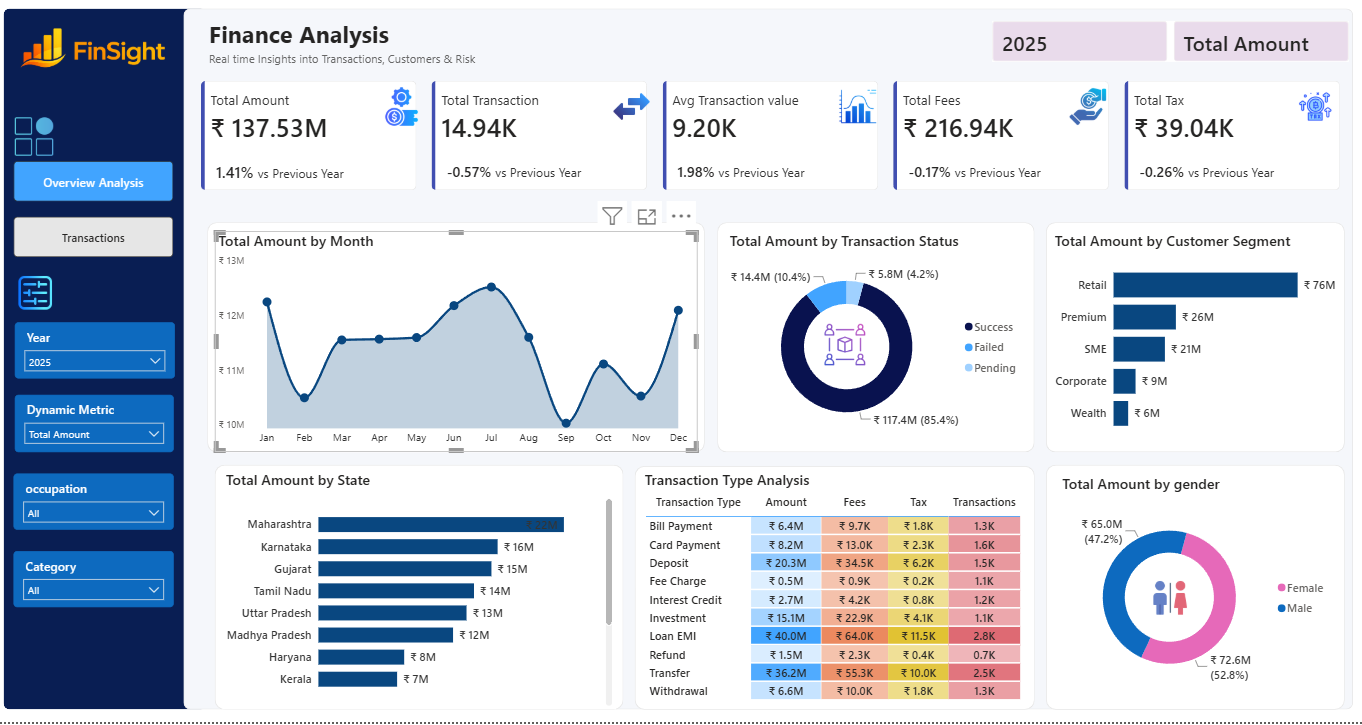

The dashboard page shown, as its layout file describes it:
{"tool":"powerbi","page":{"name":"Overview Analysis","canvas":[1800,950],"ordinal":0},"visuals":[{"type":"shape","box":[16.9,16.9,266.1,916.9],"z":0},{"type":"shape","box":[252.5,16.9,1530,916.9],"z":1000},{"type":"image","box":[30.5,16.9,208.5,103.4],"z":2000},{"type":"cardVisual","fields":{"Data":["finance_transactions.Dashboard Title"]},"box":[268.2,16.4,385.9,88.3],"z":3000},{"type":"cardVisual","fields":{"Data":["finance_transactions.Total Amount","finance_transactions.Total Transaction","finance_transactions.Avg Transaction value","finance_transactions.Total Fees","finance_transactions.Total Tax"]},"box":[268.2,104.7,1502.7,155.3],"z":4000},{"type":"slicer","fields":{"Values":["Calendar Table.Year"]},"box":[31.1,426.8,209.3,73.6],"z":5000},{"type":"image","box":[511.8,119.4,50.7,50.7],"z":6000},{"type":"image","box":[812.7,119.4,50.7,50.7],"z":7000},{"type":"image","box":[1409.5,119.4,50.7,50.7],"z":8000},{"type":"image","box":[1108.7,119.4,50.7,50.7],"z":9000},{"type":"image","box":[1707.1,119.4,50.7,50.7],"z":10000},{"type":"slicer","fields":{"Values":["Dynamic Metric.Dynamic Metric"]},"box":[31.1,521.6,207.7,75.2],"z":11000},{"type":"shape","box":[282.9,296,650.8,300.9],"z":12000},{"type":"areaChart","fields":{"Y":["finance_transactions.Total Amount"],"Category":["Calendar Table.Month"]},"box":[292.7,307.4,631.2,289.4],"z":13000},{"type":"cardVisual","fields":{"Data":["finance_transactions.Selected Year","finance_transactions.Selected Dynamic Measure"]},"box":[1304.9,27.8,477.5,63.8],"z":14000},{"type":"shape","box":[950,296,415,300.9],"z":15000},{"type":"donutChart","fields":{"Y":["finance_transactions.Total Amount"],"Category":["finance_transactions.transaction_status"]},"box":[961.5,307.4,394.1,278],"z":16000},{"type":"shape","box":[1380.1,296,390.8,300.9],"z":17000},{"type":"barChart","fields":{"Y":["finance_transactions.Total Amount"],"Category":["customers.customer_segment"]},"box":[1386.6,307.4,377.7,278],"z":18000},{"type":"shape","box":[292.7,613.2,534.7,320.5],"z":19000},{"type":"barChart","fields":{"Y":["finance_transactions.Total Amount"],"Category":["customers.state"]},"box":[302.5,619.7,515.1,314],"z":20000},{"type":"shape","box":[842.1,614.8,523.3,318.9],"z":21000},{"type":"tableEx","title":"Transaction Type Analysis","fields":{"Values":["finance_transactions.transaction_type","finance_transactions.Total Amount","finance_transactions.Total Fees","finance_transactions.Total Tax","finance_transactions.Total Transaction"]},"box":[850.3,619.7,505.3,314],"z":22000},{"type":"shape","box":[1380.1,613.2,390.8,320.5],"z":23000},{"type":"donutChart","fields":{"Y":["finance_transactions.Total Amount"],"Category":["customers.gender"]},"box":[1396.4,624.6,361.4,299.2],"z":24000},{"type":"image","box":[1087.4,426.8,58.9,58],"z":25000},{"type":"image","box":[1517.4,762,50.7,50.7],"z":26000},{"type":"slicer","fields":{"Values":["customers.occupation"]},"box":[29.4,624.6,209.3,73.6],"z":27000},{"type":"slicer","fields":{"Values":["finance_transactions.merchant_category"]},"box":[29.4,726,209.3,73.6],"z":28000},{"type":"pageNavigator","box":[29.4,215.8,209.3,127.5],"z":29000},{"type":"image","box":[31.1,158.6,50.7,50.7],"z":30000},{"type":"image","box":[32.7,363,50.7,50.7],"z":31000}]}

Visuals, with their boxes on the page's 1800x950 design canvas (x1, y1, x2, y2). These are canvas units, not pixel positions in the 1362x725 screenshot, which may show the page scaled, cropped or inside an application window:
shape: (x1=17, y1=17, x2=283, y2=934)
shape: (x1=252, y1=17, x2=1782, y2=934)
image: (x1=30, y1=17, x2=239, y2=120)
cardVisual - finance_transactions.Dashboard Title: (x1=268, y1=16, x2=654, y2=105)
cardVisual - finance_transactions.Total Amount x finance_transactions.Total Transaction: (x1=268, y1=105, x2=1771, y2=260)
slicer - Calendar Table.Year: (x1=31, y1=427, x2=240, y2=500)
image: (x1=512, y1=119, x2=562, y2=170)
image: (x1=813, y1=119, x2=863, y2=170)
image: (x1=1410, y1=119, x2=1460, y2=170)
image: (x1=1109, y1=119, x2=1159, y2=170)
image: (x1=1707, y1=119, x2=1758, y2=170)
slicer - Dynamic Metric.Dynamic Metric: (x1=31, y1=522, x2=239, y2=597)
shape: (x1=283, y1=296, x2=934, y2=597)
areaChart - finance_transactions.Total Amount x Calendar Table.Month: (x1=293, y1=307, x2=924, y2=597)
cardVisual - finance_transactions.Selected Year x finance_transactions.Selected Dynamic Measure: (x1=1305, y1=28, x2=1782, y2=92)
shape: (x1=950, y1=296, x2=1365, y2=597)
donutChart - finance_transactions.Total Amount x finance_transactions.transaction_status: (x1=962, y1=307, x2=1356, y2=585)
shape: (x1=1380, y1=296, x2=1771, y2=597)
barChart - finance_transactions.Total Amount x customers.customer_segment: (x1=1387, y1=307, x2=1764, y2=585)
shape: (x1=293, y1=613, x2=827, y2=934)
barChart - finance_transactions.Total Amount x customers.state: (x1=302, y1=620, x2=818, y2=934)
shape: (x1=842, y1=615, x2=1365, y2=934)
"Transaction Type Analysis" tableEx: (x1=850, y1=620, x2=1356, y2=934)
shape: (x1=1380, y1=613, x2=1771, y2=934)
donutChart - finance_transactions.Total Amount x customers.gender: (x1=1396, y1=625, x2=1758, y2=924)
image: (x1=1087, y1=427, x2=1146, y2=485)
image: (x1=1517, y1=762, x2=1568, y2=813)
slicer - customers.occupation: (x1=29, y1=625, x2=239, y2=698)
slicer - finance_transactions.merchant_category: (x1=29, y1=726, x2=239, y2=800)
pageNavigator: (x1=29, y1=216, x2=239, y2=343)
image: (x1=31, y1=159, x2=82, y2=209)
image: (x1=33, y1=363, x2=83, y2=414)
